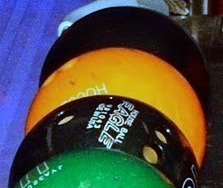ball: (23, 46, 206, 169)
